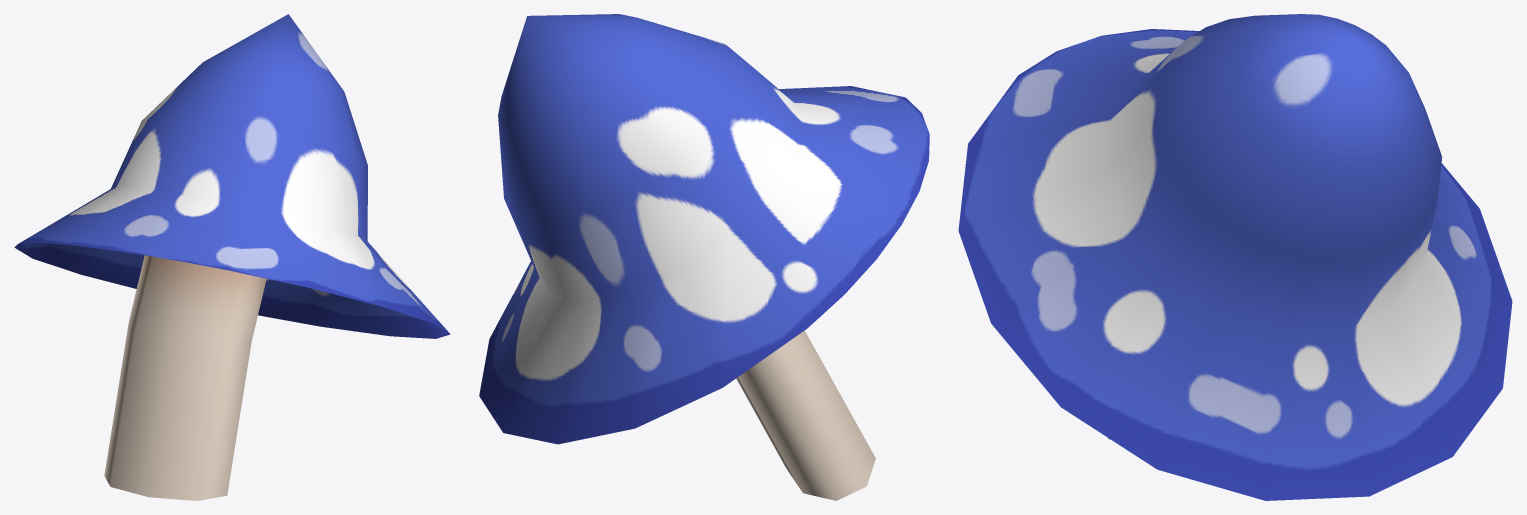
The model's file is OBJ_Mushroom_003.fbx.
3 renders of one model, left to right at view 1: azimuth 30°, elevation 25°; view 2: azimuth 150°, elevation 25°; view 3: azimuth 270°, elevation 25°, orthographic. The views are drawn at different scales.
Parts seen in each view (by area): view 1: Mushroom_003; view 2: Mushroom_003; view 3: Mushroom_003.
Boxes of the visible parts, bbox=[...] form: Mushroom_003: bbox=[14, 14, 450, 500]; Mushroom_003: bbox=[479, 14, 929, 500]; Mushroom_003: bbox=[958, 14, 1512, 500].
Bounding box in the file's own units: 311 × 325 × 323.
1 material, 1 textured.
